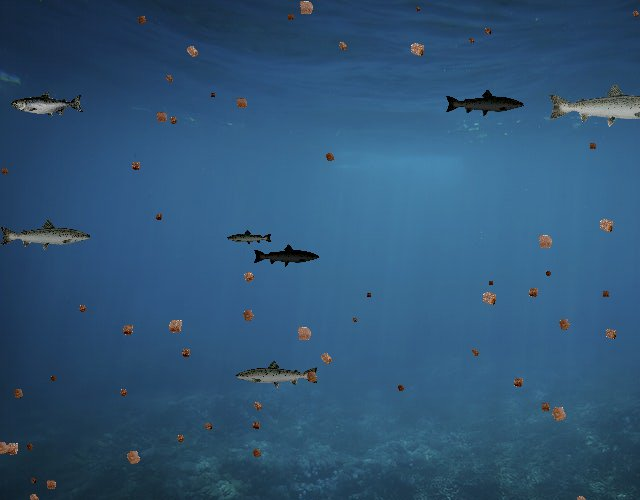Fish: (546, 82, 640, 128), (0, 218, 92, 252), (234, 359, 320, 390), (445, 89, 526, 118), (12, 91, 85, 117), (253, 244, 321, 268), (227, 229, 274, 246)
Pellet: (161, 312, 189, 340), (180, 39, 205, 64), (314, 347, 338, 371), (236, 304, 260, 328), (237, 266, 260, 289), (8, 383, 29, 404), (161, 71, 178, 88), (480, 24, 494, 38), (542, 267, 555, 280), (27, 475, 39, 487)
